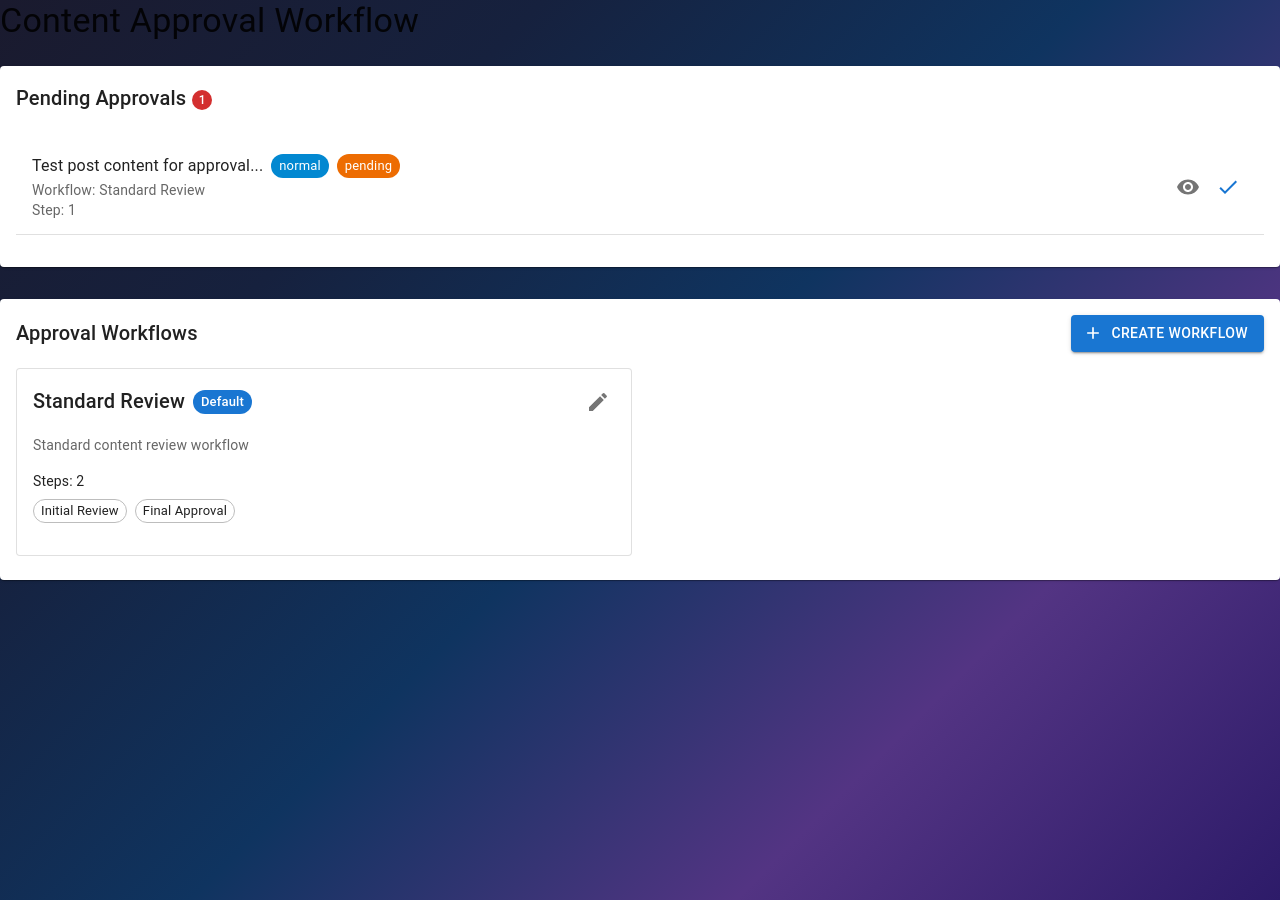
it: ContentApprovalWorkflow › shows workflow progress
Click the button titled "View Progress": [1188, 186] box [1168, 166, 1208, 206]
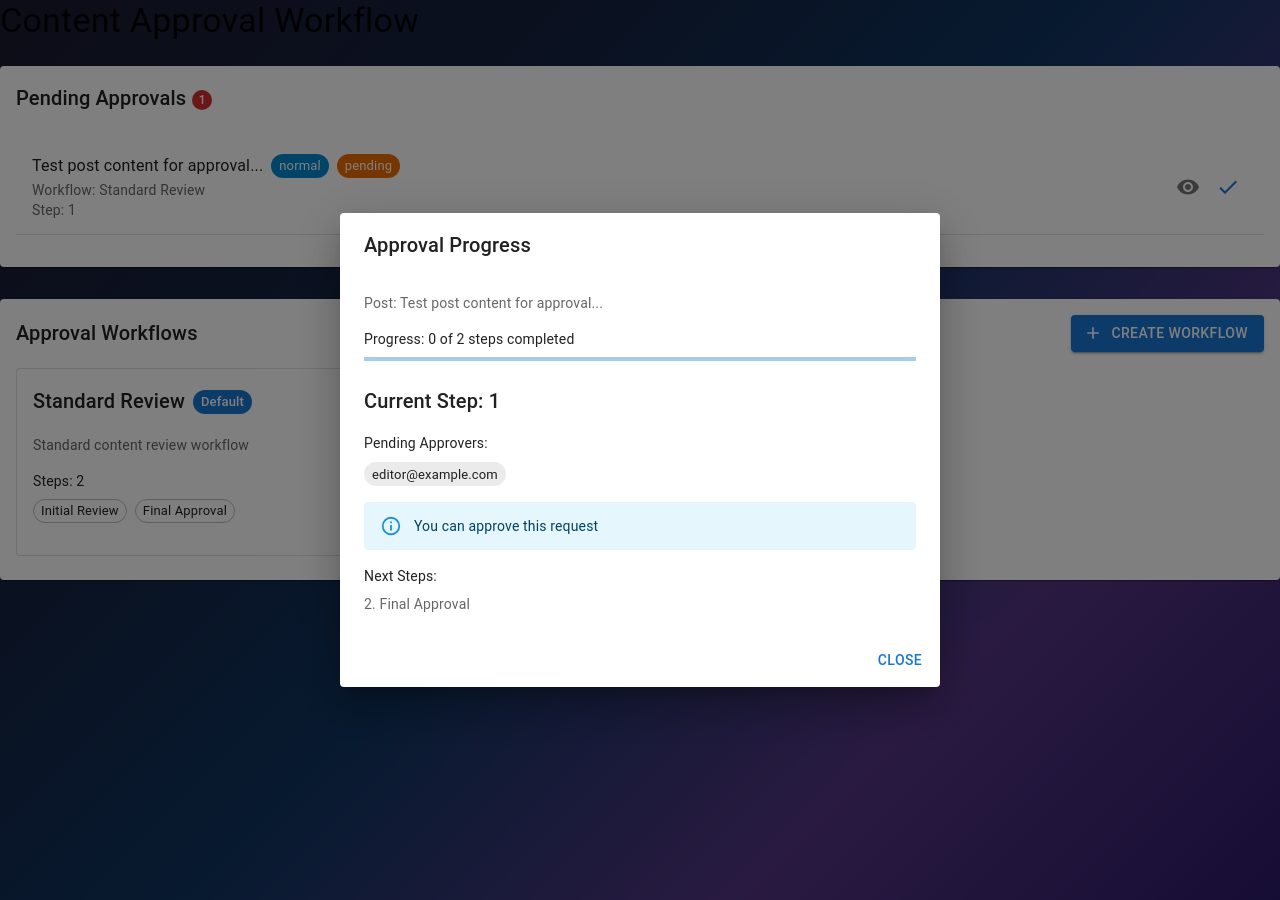
Expected: the heading "Approval Progress" is shown, [364, 233, 531, 257]
Expected: the text "Progress: 0 of 2 steps completed" is shown, [364, 331, 574, 347]
Expected: the text "You can approve this request" is shown, [414, 518, 598, 534]
